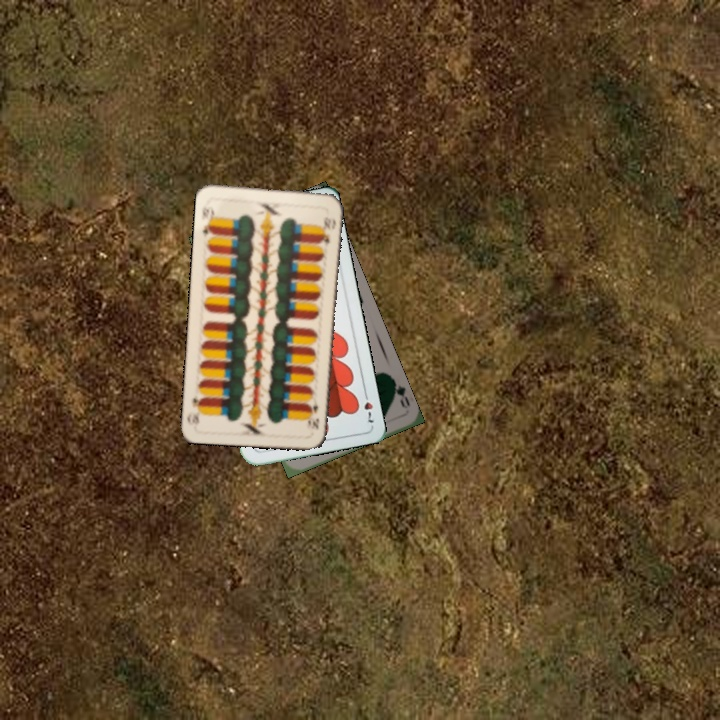E10: (197, 202, 217, 239), (305, 394, 322, 432)
GO: (387, 374, 413, 411)
H7: (360, 387, 376, 426)
